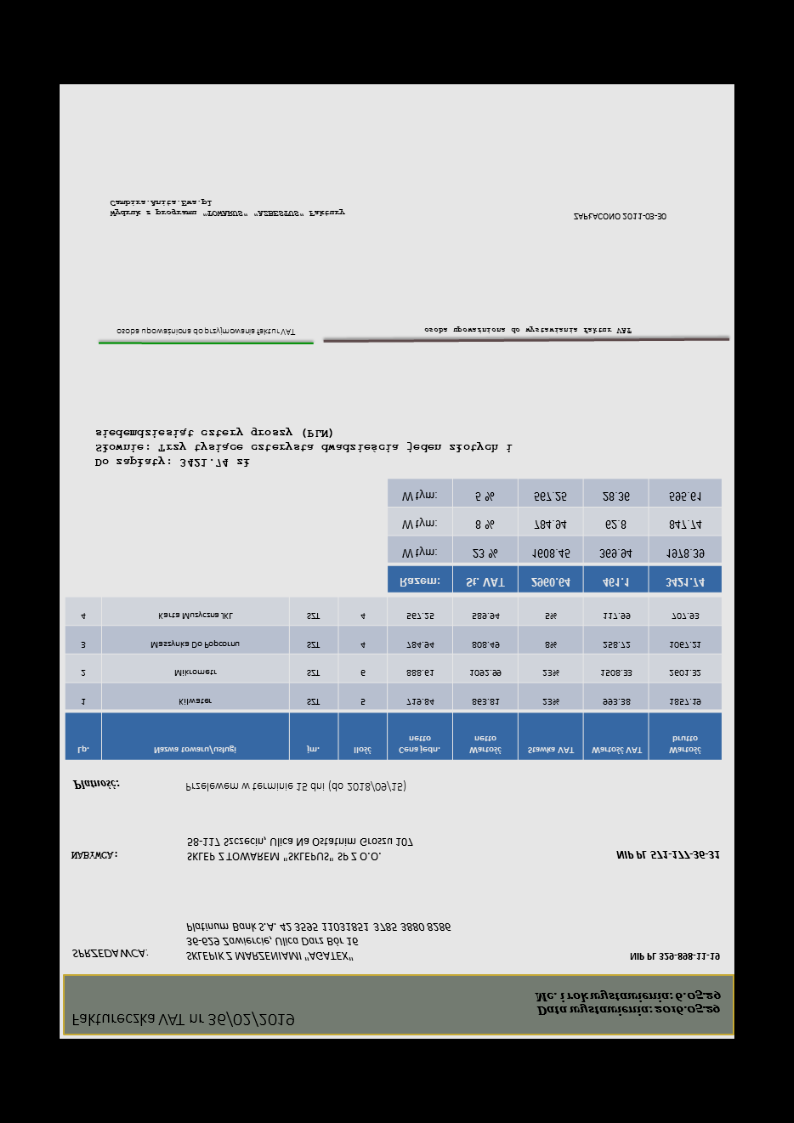Table: (63, 595, 722, 761), (387, 477, 722, 593)
TextBox: (92, 425, 517, 470), (182, 916, 453, 965), (184, 834, 415, 864), (531, 986, 723, 1020), (106, 196, 349, 219), (68, 1010, 297, 1031), (183, 779, 408, 793), (422, 325, 633, 337), (113, 326, 297, 338), (626, 948, 720, 965), (614, 848, 721, 862), (68, 944, 150, 962), (571, 210, 669, 224), (68, 848, 119, 863), (71, 778, 121, 792)
